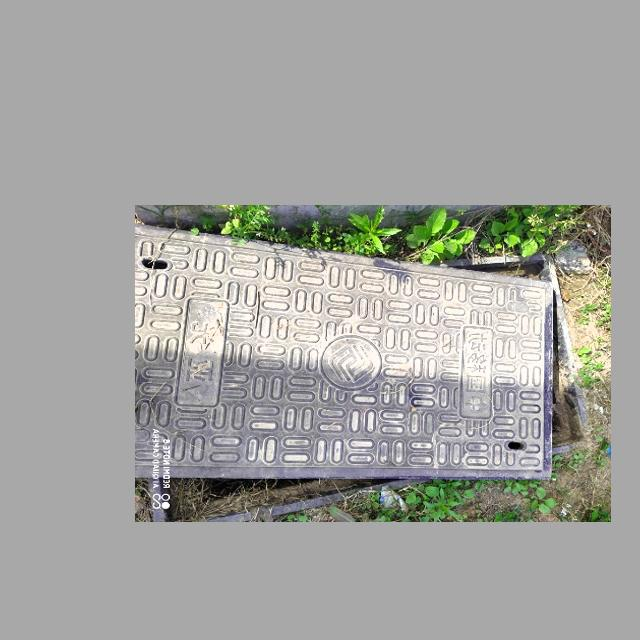uncovered: (135, 223, 592, 518)
